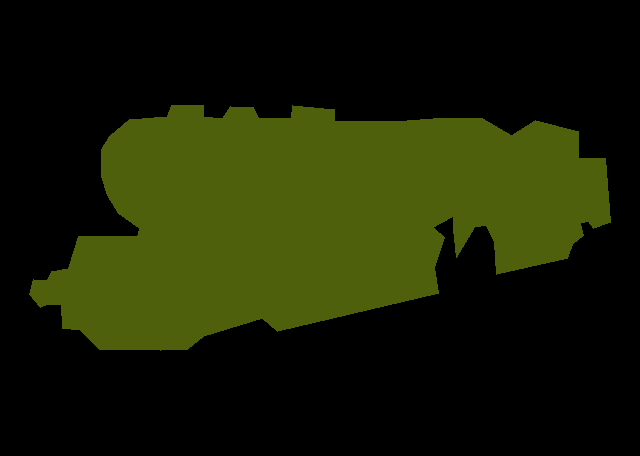Train: (29, 105, 610, 351)
